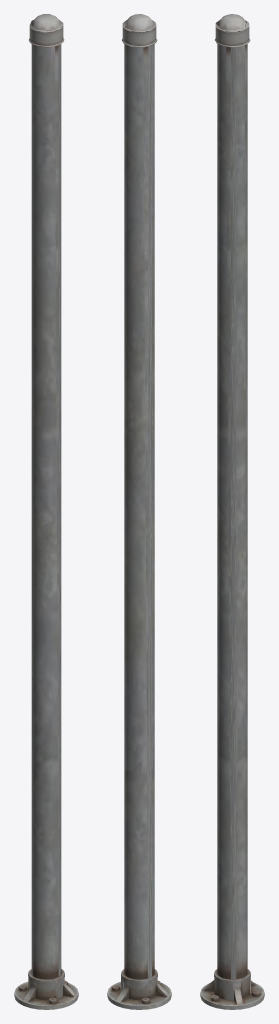
The model's file is modular-chainlink-fence-post.glb.
3 renders of one model, left to right at view 1: azimuth 30°, elevation 25°; view 2: azimuth 150°, elevation 25°; view 3: azimuth 330°, elevation 25°, orthographic.
Parts seen in each view (by area): view 1: modular_chainlink_fence_post; view 2: modular_chainlink_fence_post; view 3: modular_chainlink_fence_post.
Part boxes in pixels (x1=…): modular_chainlink_fence_post: x1=14, y1=14, x2=78, y2=1009; modular_chainlink_fence_post: x1=107, y1=14, x2=171, y2=1009; modular_chainlink_fence_post: x1=200, y1=14, x2=264, y2=1009.
Size of the model in its own units: 0.1493 by 2.52 by 0.1493.
Materials: 1 (1 with a texture image).
